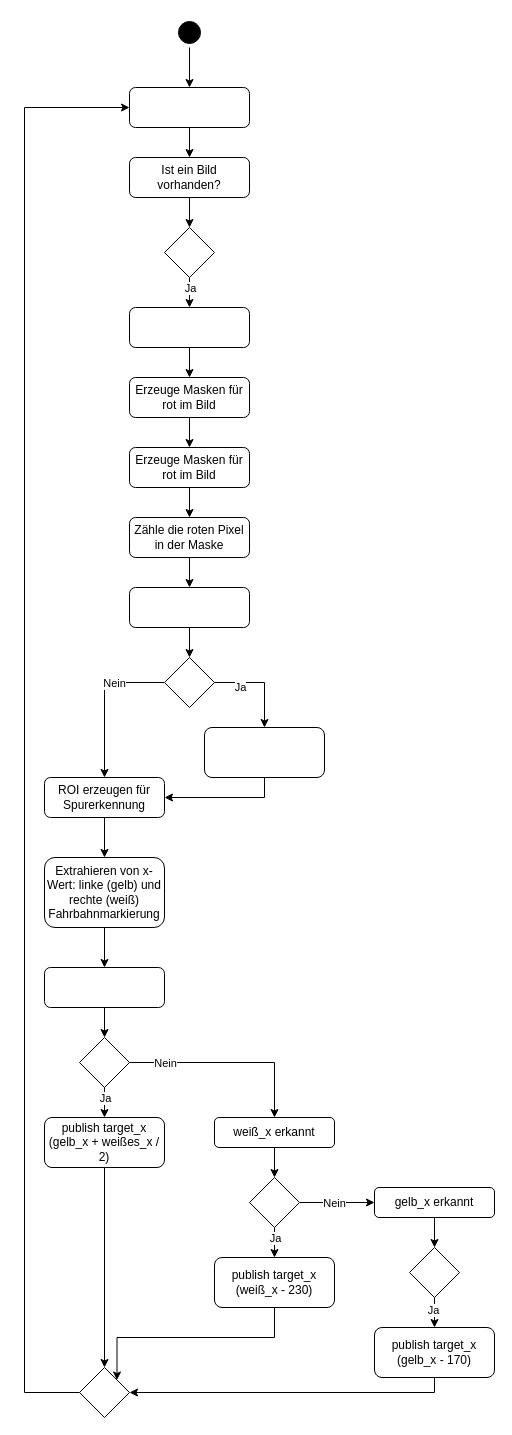
Some shapes in this 512 by 1435 pixel diagram are drawn without their labels. Here are the shapes that lost their labels. From the top down, the box of each, then its label:
(128, 86, 250, 128): Subscribe das Kamerabild
(128, 306, 250, 348): Bild in HSV umwandeln
(128, 586, 250, 628): Anzahl rote Pixel > 200
(204, 726, 324, 778): Stoplinie erkannt (publishe red_line = True)
(44, 966, 164, 1008): Wurden beide x-Werte erkannt?
